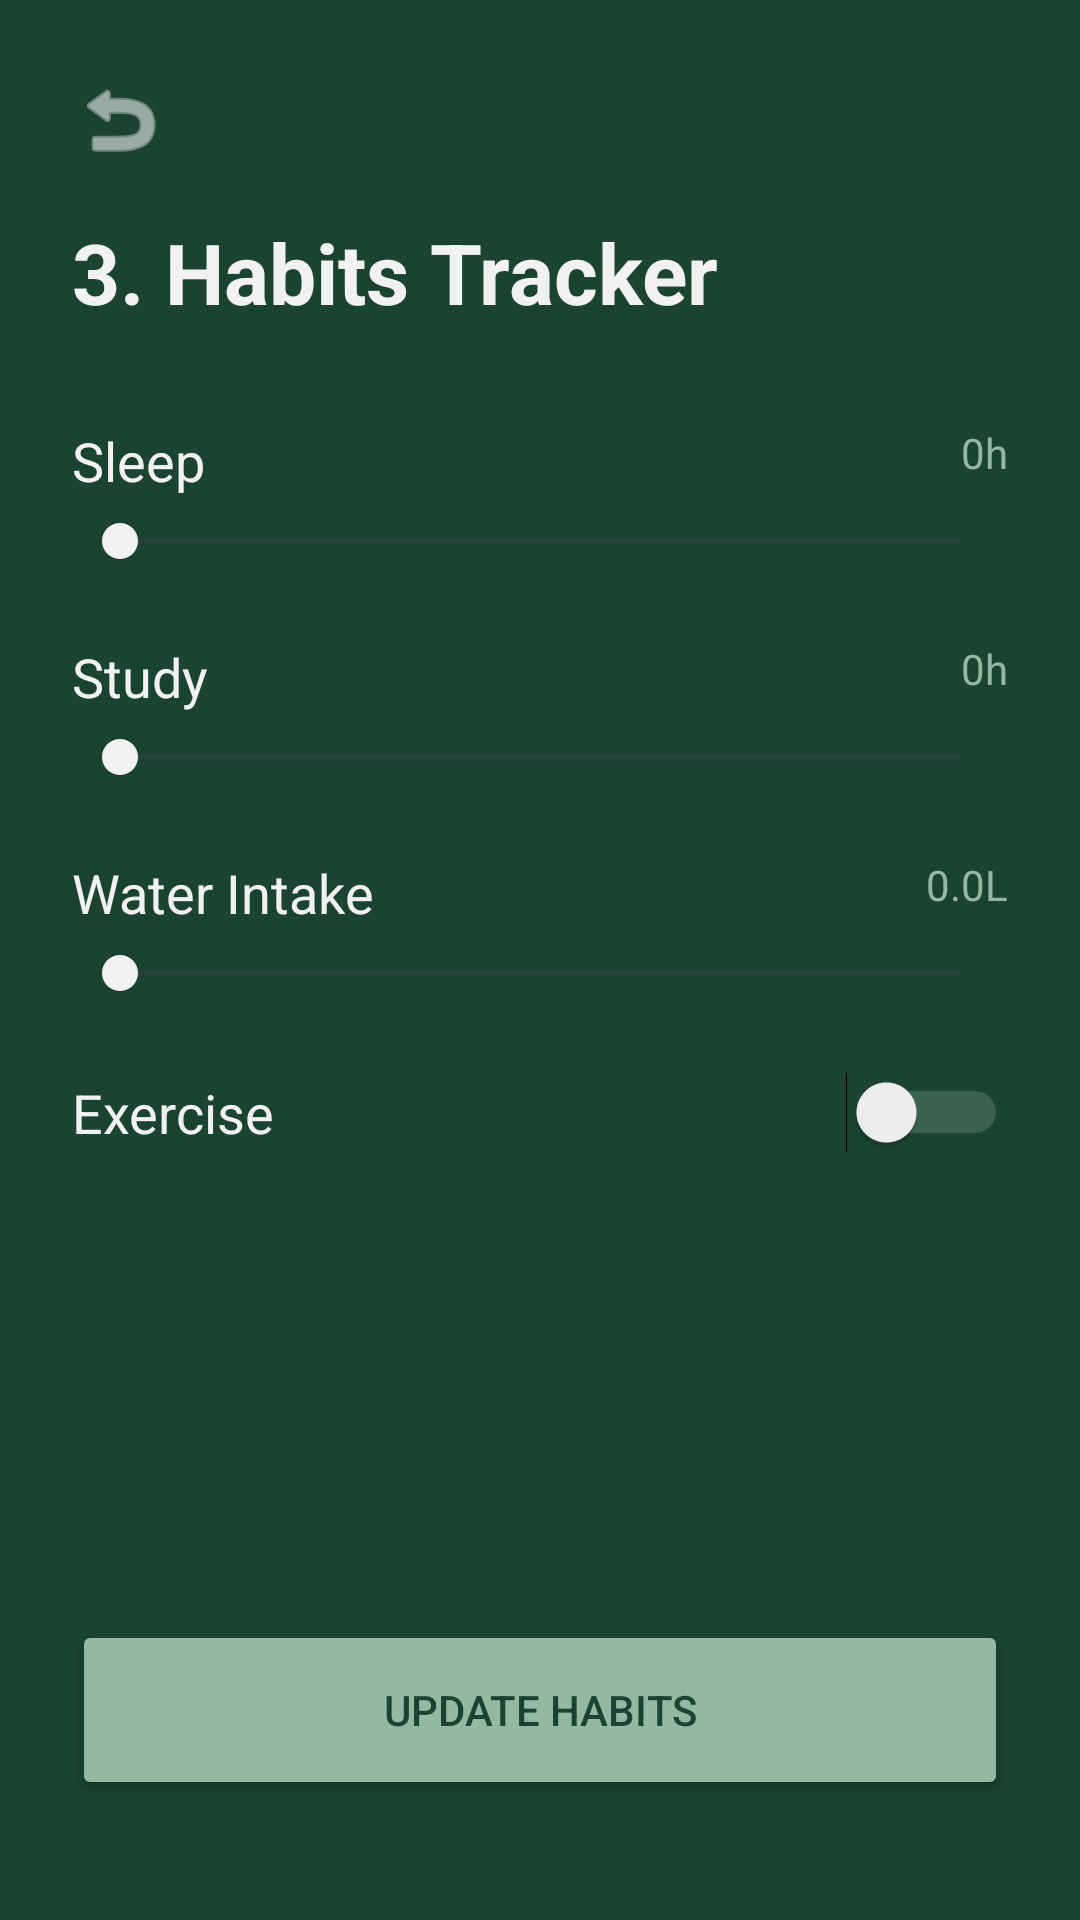

Locate icon controls on the screen. Image size 1080 x 1920, boxes as (x1, y1, x2, y2).
revert: (87, 89, 156, 152)
